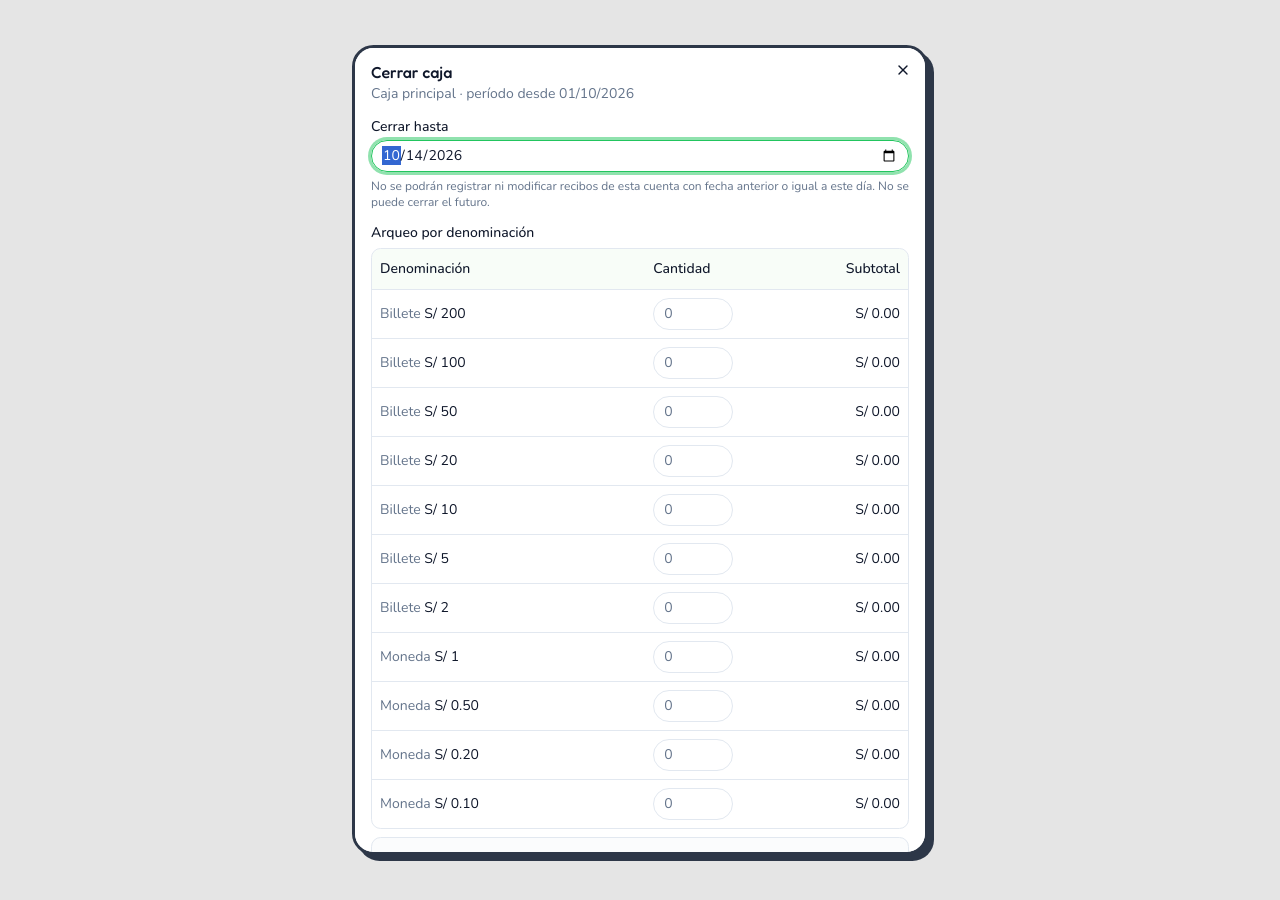
Test: CashCloseModal › calcula en vivo el total y el efectivo neto (total − fondo de cambio)
Type "3" into the number field named "Cantidad de S/ 100" at (693, 362), box [653, 346, 733, 378]
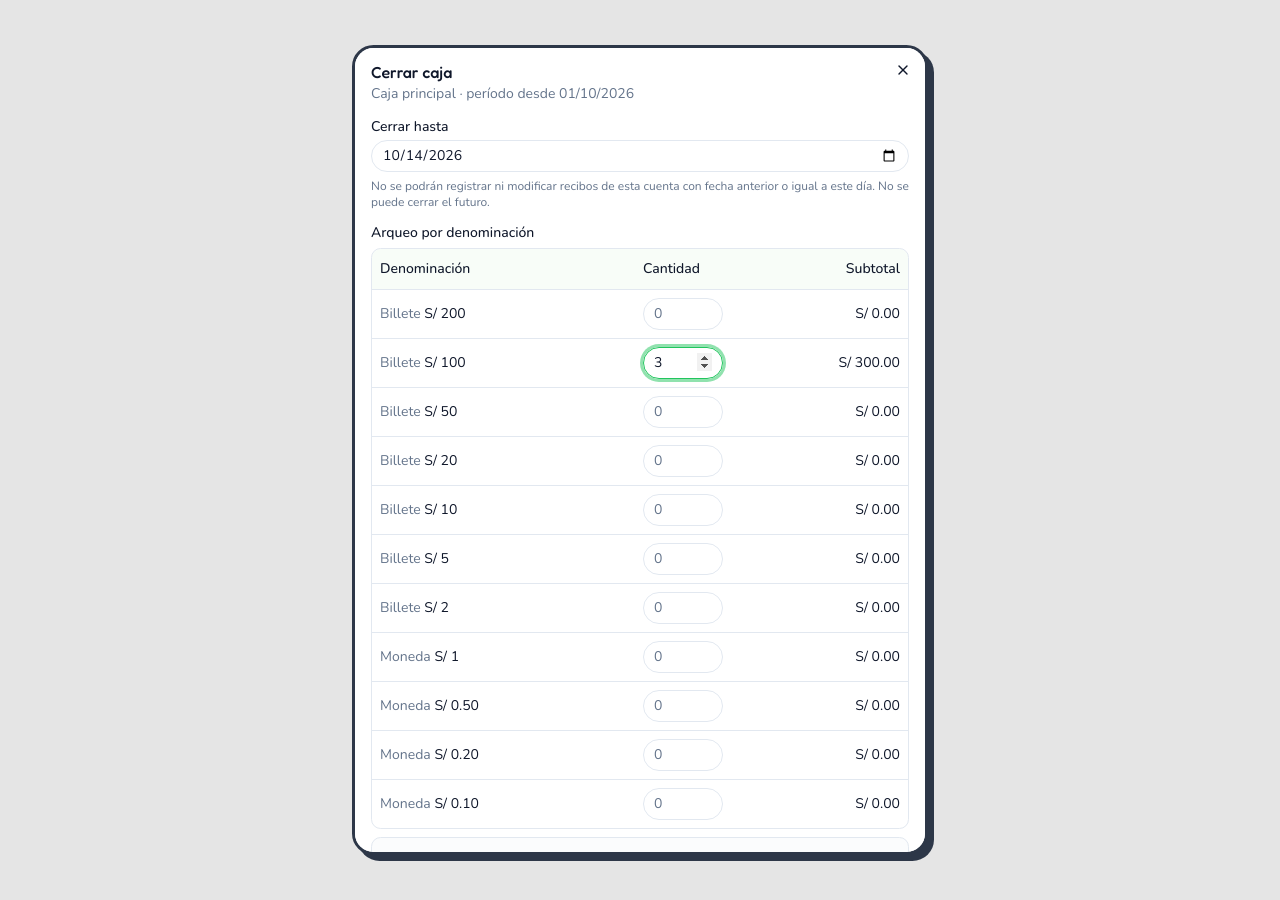
Type "2" into the number field named "Cantidad de S/ 50" at (683, 412), box [643, 396, 723, 428]
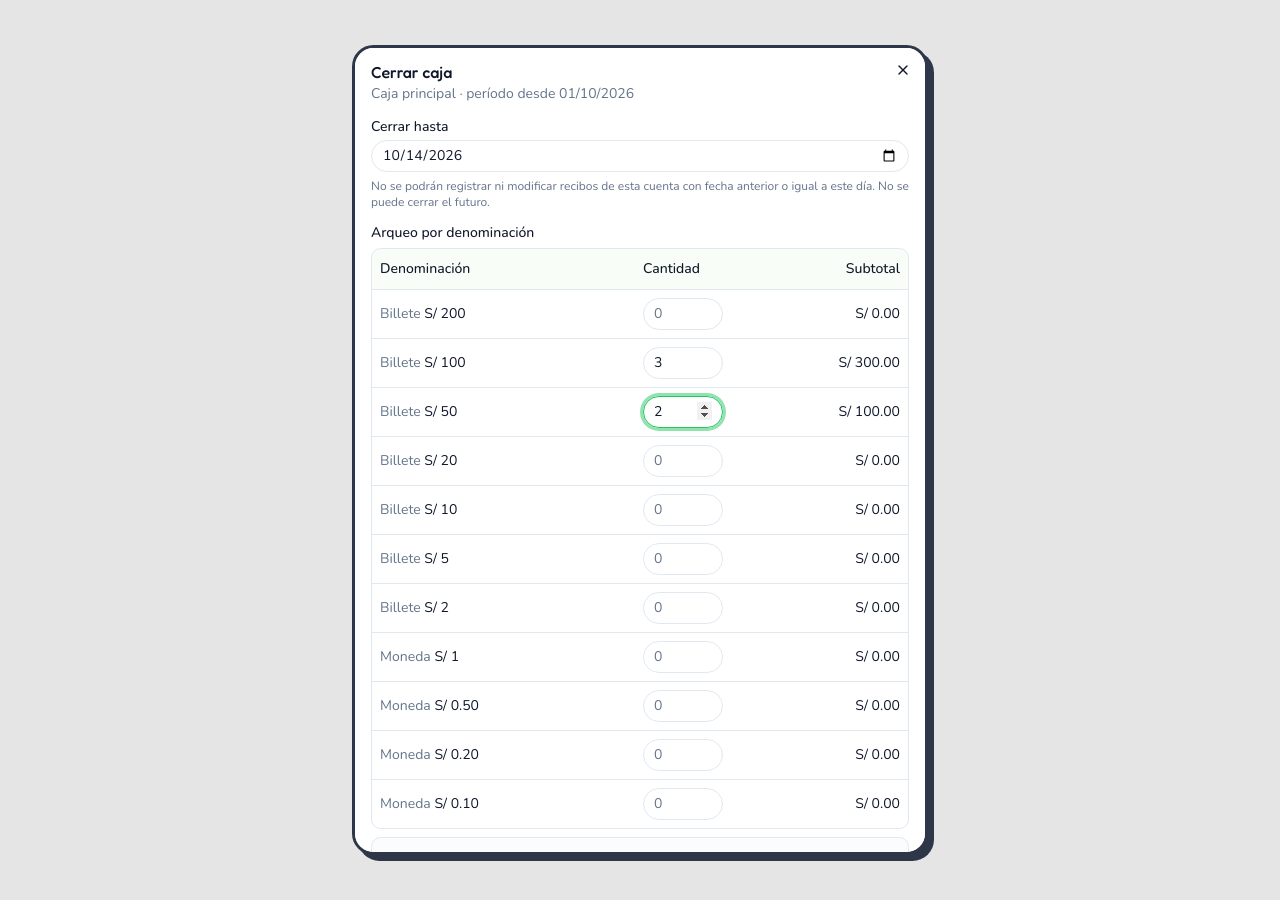
Type "1" into the number field named "Cantidad de S/ 0.50" at (683, 706), box [643, 690, 723, 722]
(page scrolled)
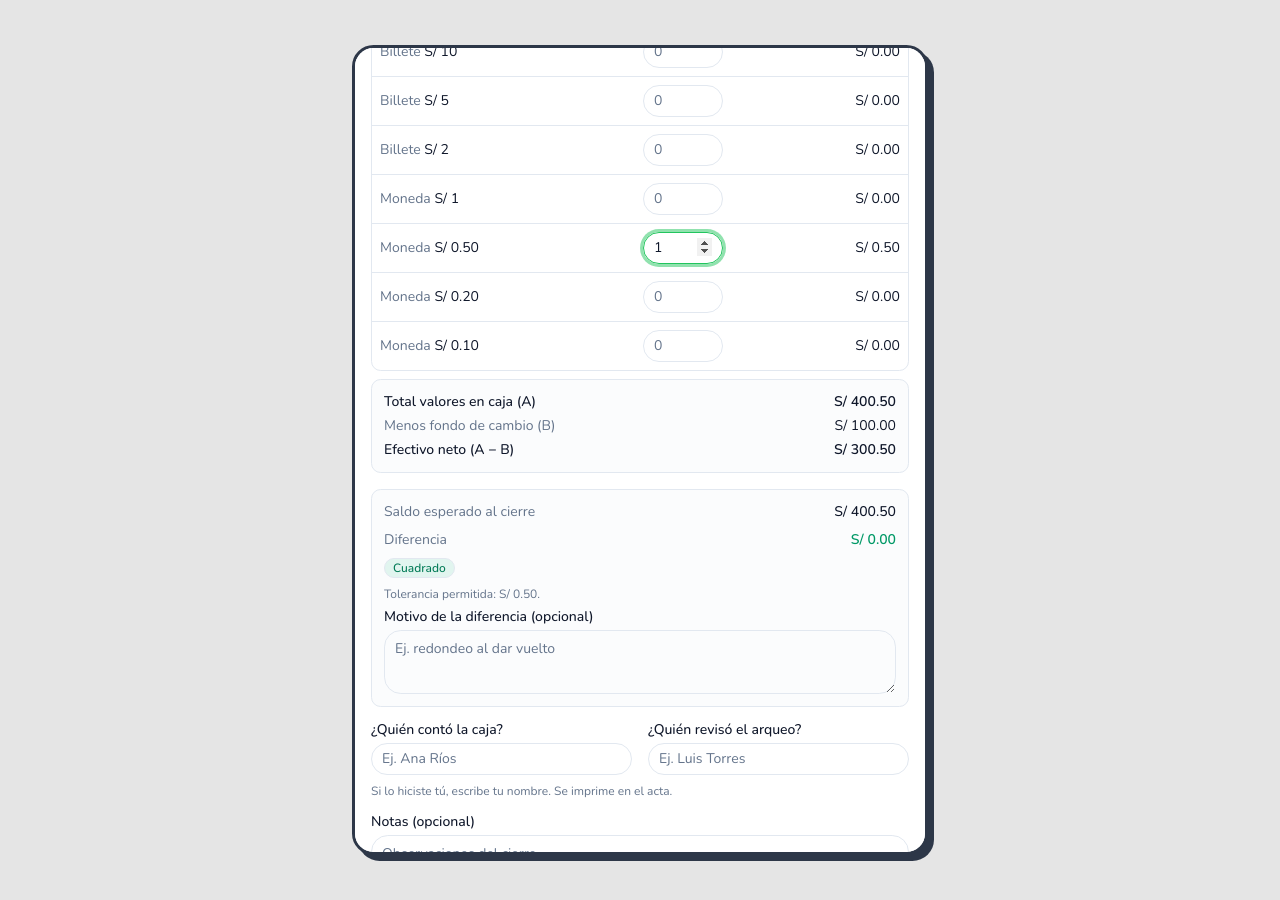
Expected: the text "S/ 400.50" is shown 2 times, [834, 392, 896, 412]; [834, 502, 896, 522]
Expected: the text "S/ 300.50" is shown, [834, 440, 896, 460]
